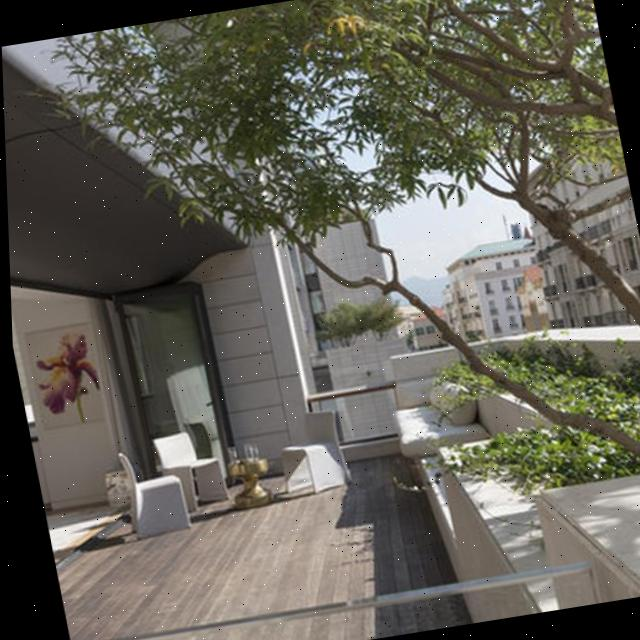building: (0, 0, 423, 510), (430, 234, 557, 354)
